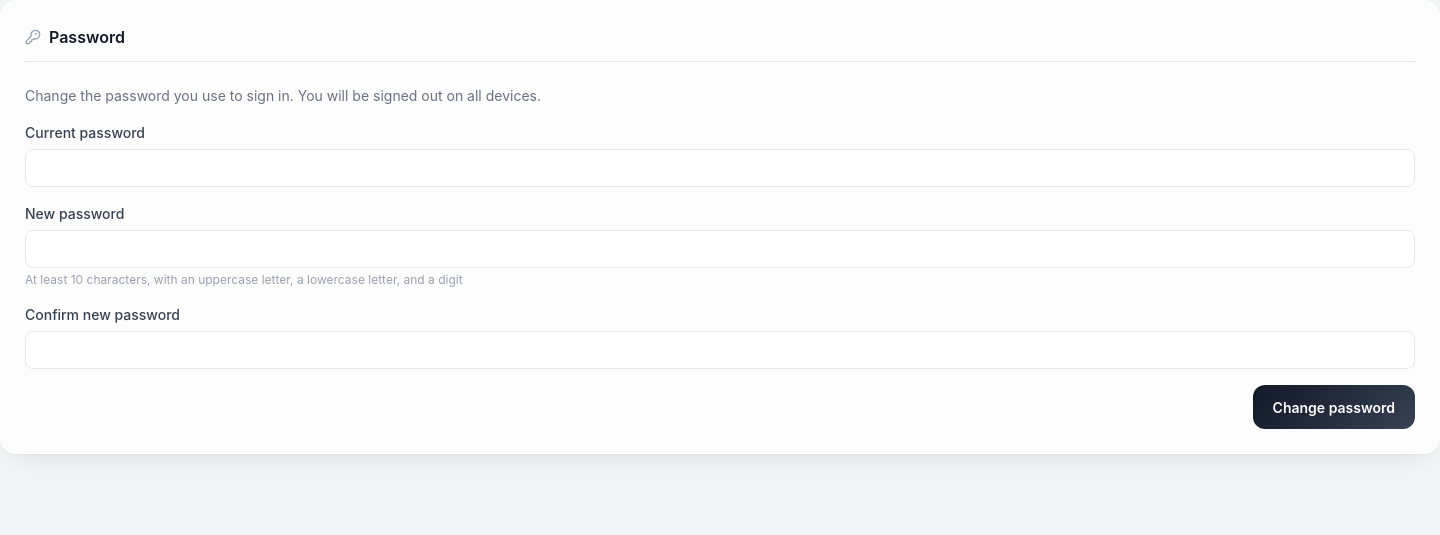
Test: ChangePasswordCard › rejects a weak new password client-side
This screenshot has width=1440, height=535.
In the password field labelled "Current password": [720, 168] box [25, 149, 1415, 187], type "old-password-1"
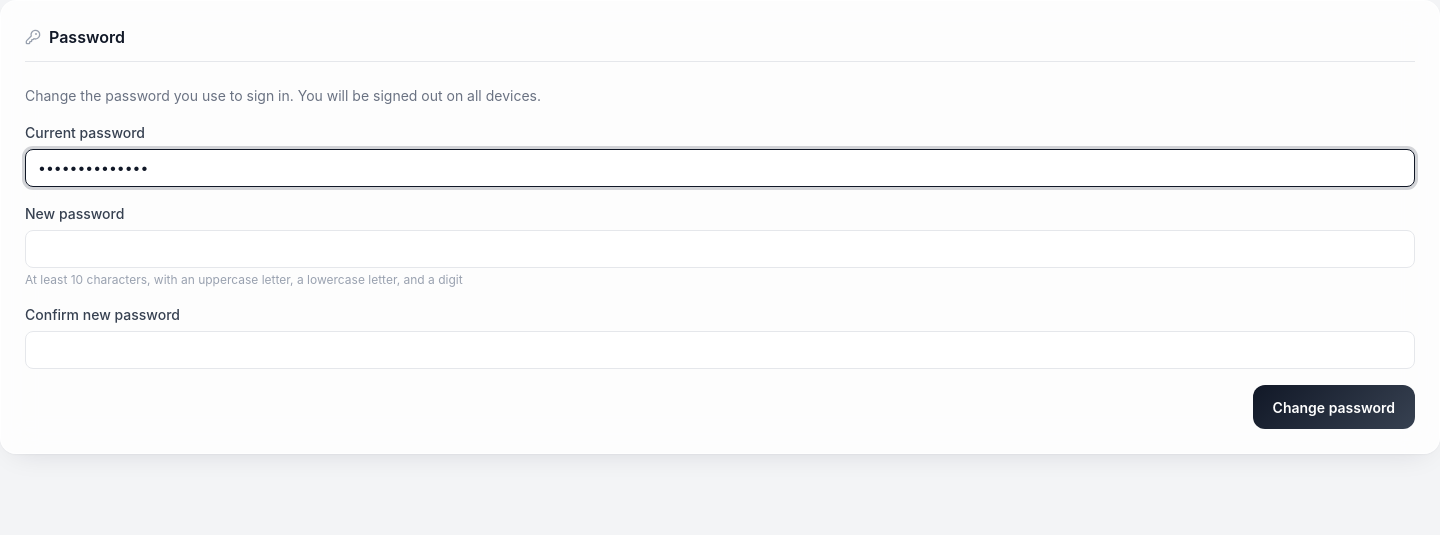
In the password field labelled "New password": [720, 249] box [25, 230, 1415, 268], type "short"
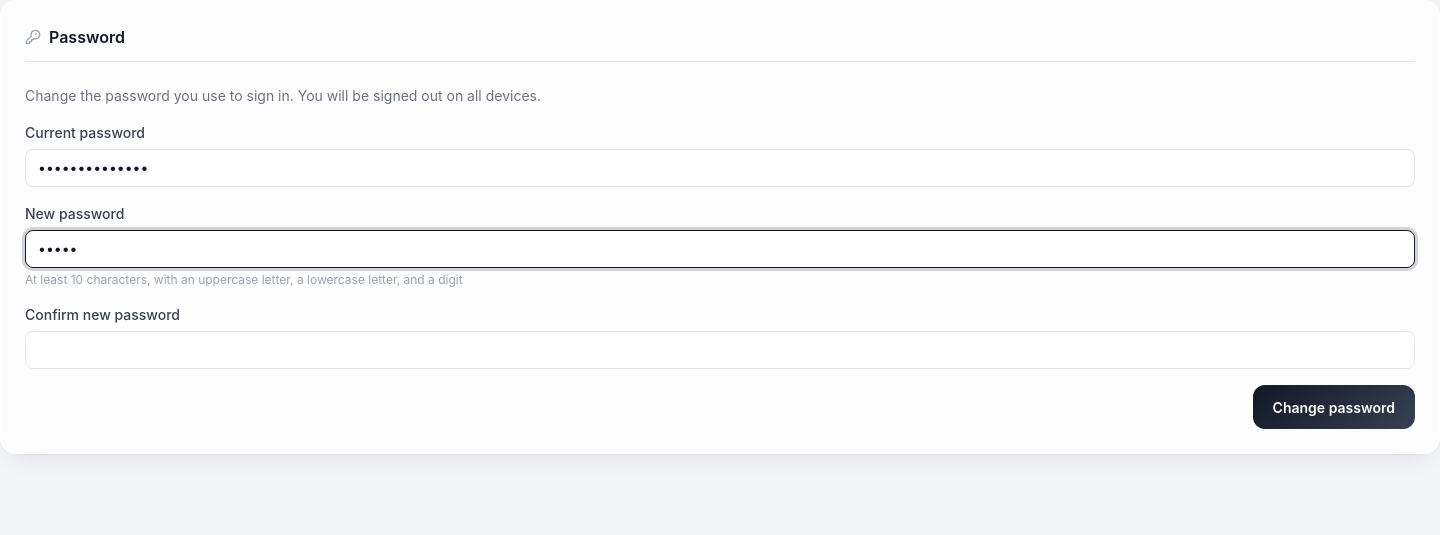
In the password field labelled "Confirm new password": [720, 350] box [25, 331, 1415, 369], type "short"
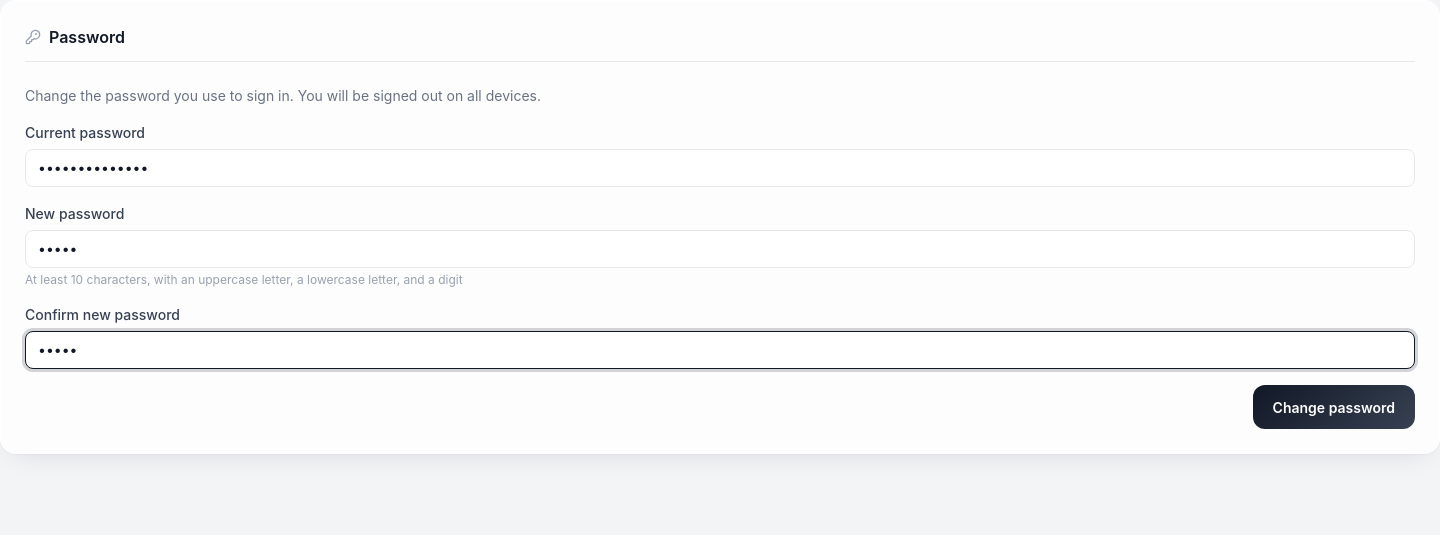
Click the button "Change password": [1334, 407] box [1253, 385, 1415, 429]
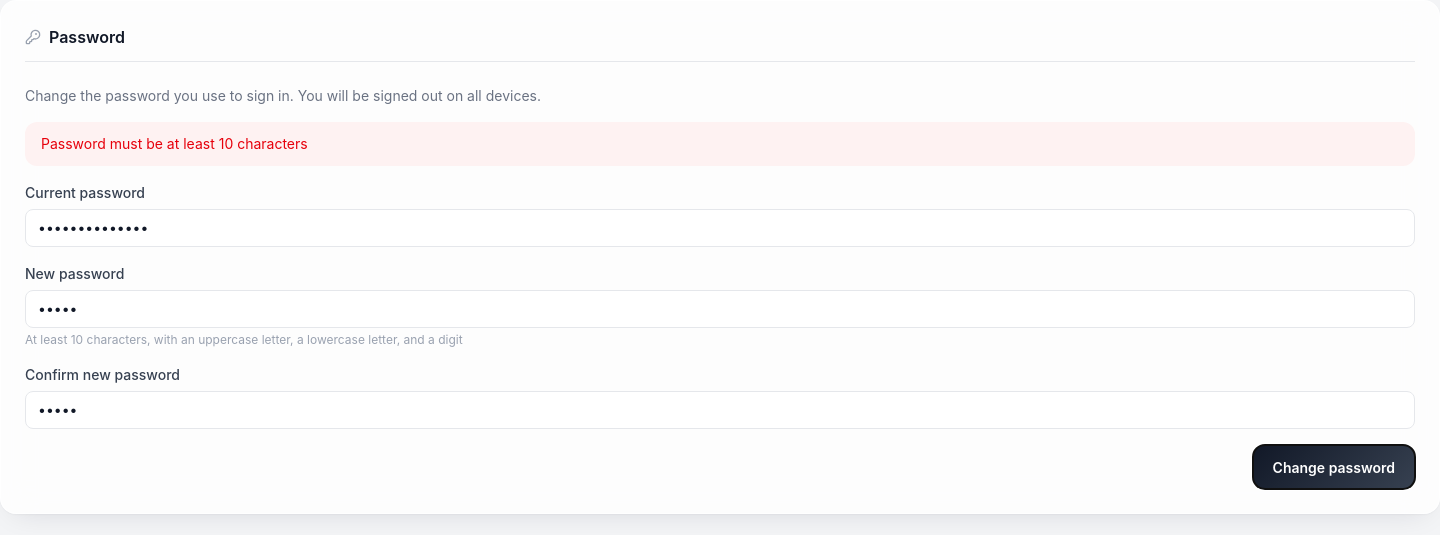
Result: the text "Password must be at least 10 characters" is shown at [25, 122, 1415, 166]
